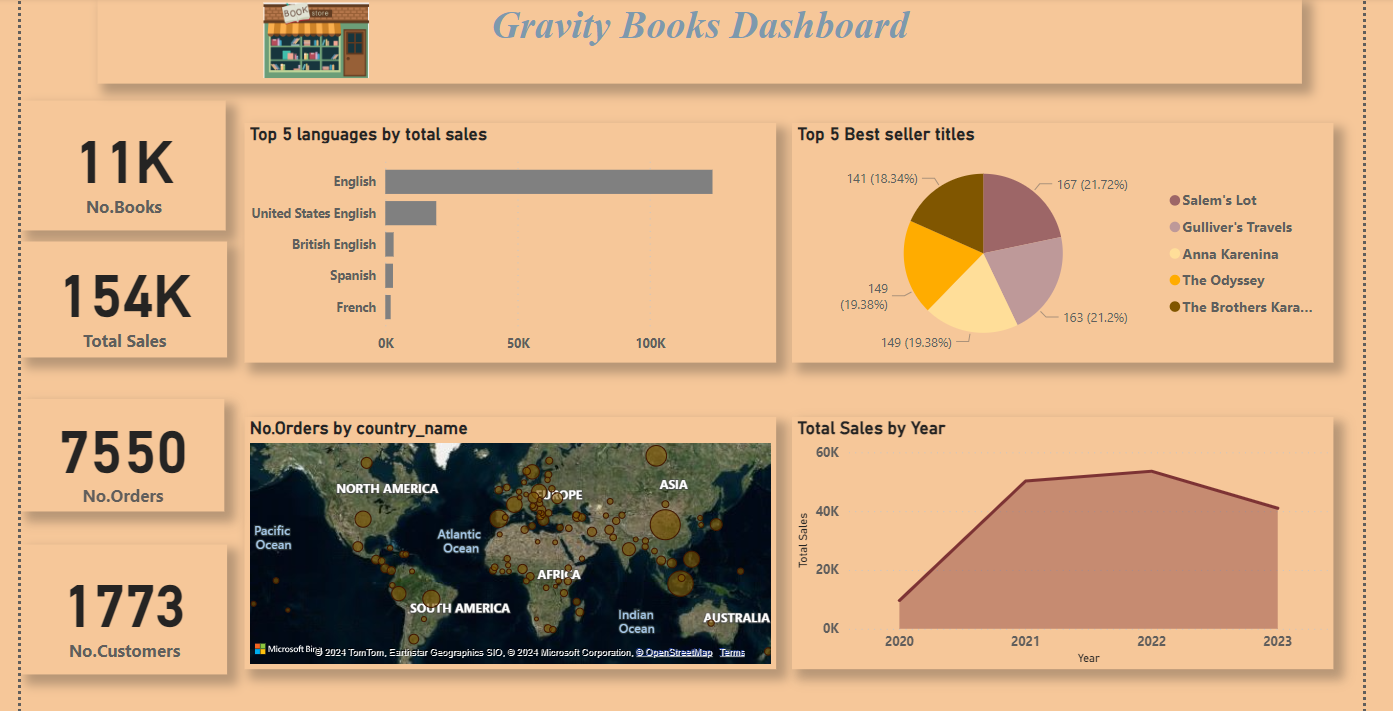

What the dashboard file says about the page in this screenshot:
{"tool":"powerbi","page":{"name":"Page 1","canvas":[1280,720],"ordinal":0},"visuals":[{"type":"card","fields":{"Values":["Dax_measures.# No.Customers"]},"box":[0,522.4,196.8,124.2],"z":0},{"type":"card","fields":{"Values":["Dax_measures.No.Books"]},"box":[0,98.4,195.3,124.2],"z":1000},{"type":"card","fields":{"Values":["Dax_measures.Total Sales"]},"box":[0,233.2,196.8,110.5],"z":2000},{"type":"barChart","title":"Top 5 languages by total sales","fields":{"Y":["Dax_measures.Top languages"],"Category":["dim_Book.language_name"]},"box":[213.5,119.6,507.3,228.6],"z":3000},{"type":"map","fields":{"Category":["Dim_Address.country_name"],"Size":["Dax_measures.No.Orders"]},"box":[213.5,401.3,507.3,240.8],"z":4000},{"type":"areaChart","fields":{"Category":["DimDate.Year"],"Y":["Dax_measures.Total Sales"]},"box":[735.9,401.3,516.3,240.8],"z":5000},{"type":"card","fields":{"Values":["Dax_measures.No.Orders"]},"box":[0,383.1,193.8,107.5],"z":6000},{"type":"textbox","box":[73.1,0,1149.1,82.6],"z":7000},{"type":"pieChart","title":"Top 5 Best seller titles","fields":{"Category":["dim_Book.title"],"Y":["Dax_measures.Top 5 Book title"]},"box":[735.9,119.6,516.3,228.6],"z":8000},{"type":"image","box":[108.1,0,346.5,82.6],"z":9000}]}

Visuals, with their boxes on the page's 1280x720 design canvas (x1, y1, x2, y2). These are canvas units, not pixel positions in the 1393x711 screenshot, which may show the page scaled, cropped or inside an application window:
card - Dax_measures.# No.Customers: locate(0, 522, 197, 647)
card - Dax_measures.No.Books: locate(0, 98, 195, 223)
card - Dax_measures.Total Sales: locate(0, 233, 197, 344)
"Top 5 languages by total sales" barChart: locate(214, 120, 721, 348)
map - Dim_Address.country_name x Dax_measures.No.Orders: locate(214, 401, 721, 642)
areaChart - DimDate.Year x Dax_measures.Total Sales: locate(736, 401, 1252, 642)
card - Dax_measures.No.Orders: locate(0, 383, 194, 491)
textbox: locate(73, 0, 1222, 83)
"Top 5 Best seller titles" pieChart: locate(736, 120, 1252, 348)
image: locate(108, 0, 455, 83)
